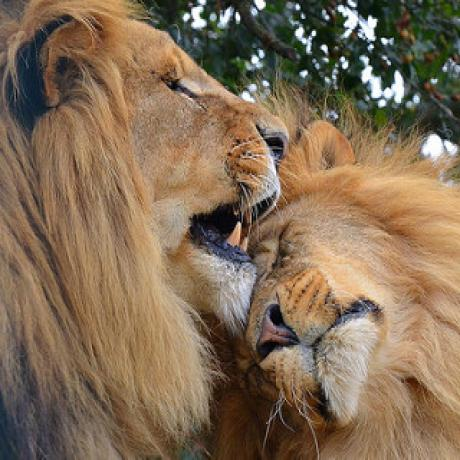Lion: (0, 0, 290, 460), (244, 79, 460, 460)
